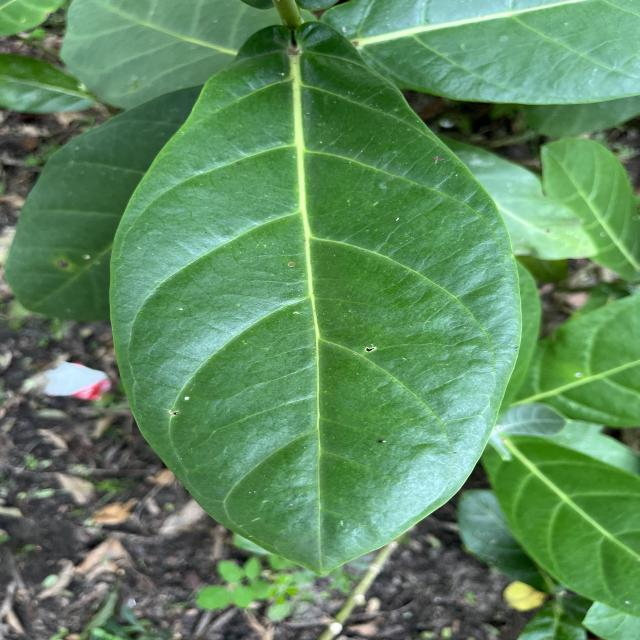Calotropis gigantea: (104, 16, 526, 585), (487, 426, 640, 622)
